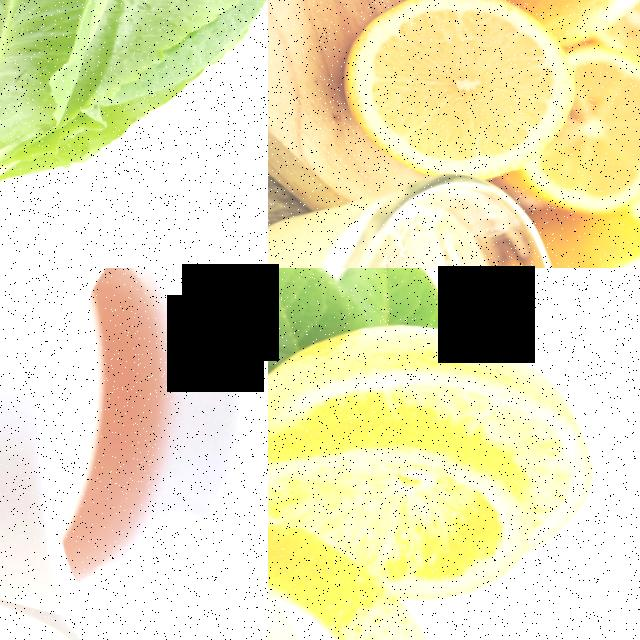lemon: (268, 306, 612, 582), (343, 0, 570, 187), (550, 51, 640, 231)
lettuce: (0, 0, 268, 188)
